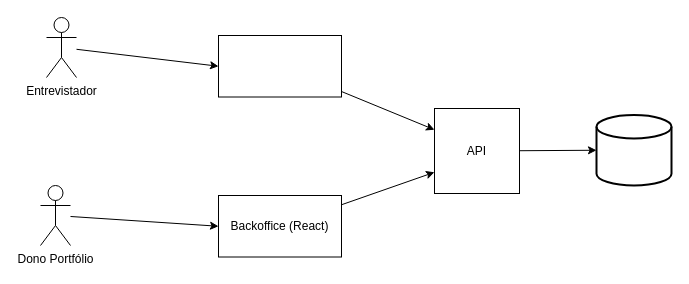
This 689x284 diagram has some shape labels left out. The shapes that lost their labels are listed below. From the top down, each one's centre as x and y in pixels, then its label:
At (x=280, y=65): "Site Público (React)".
At (x=633, y=150): "DB".
